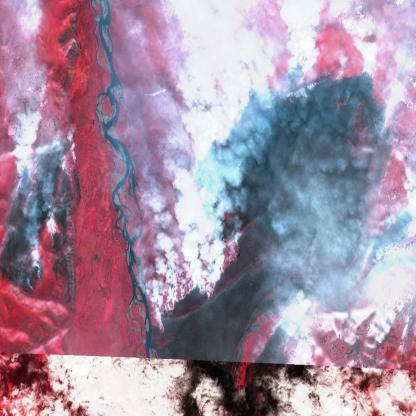fire: (0, 45, 416, 371)
